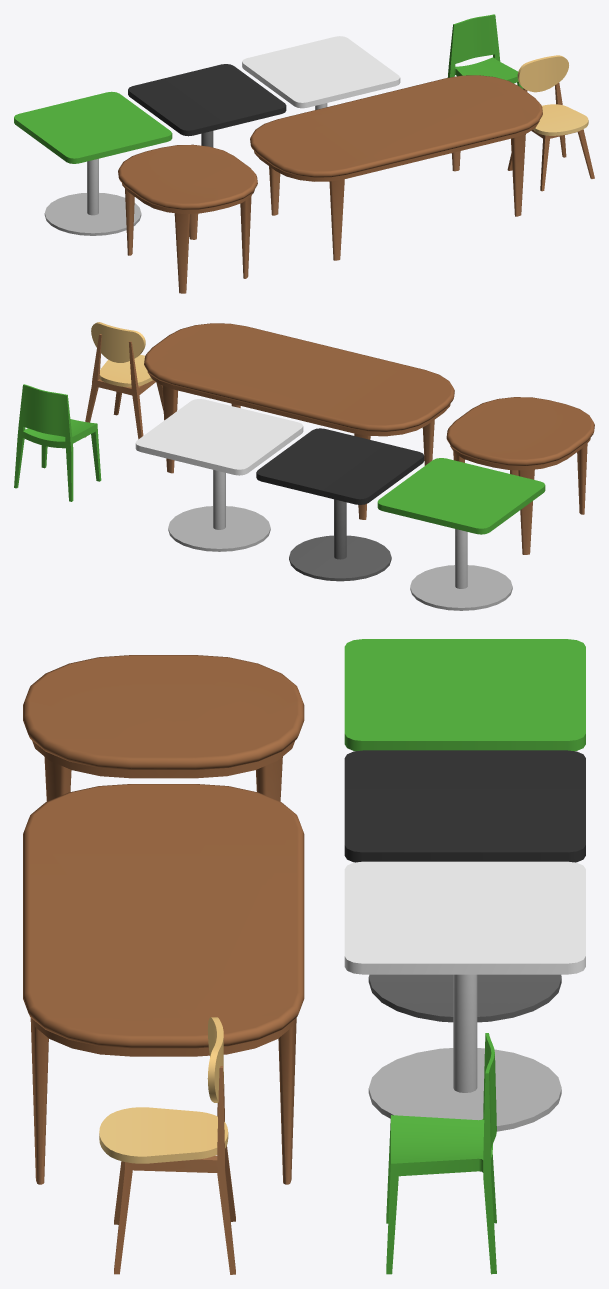
The model's file is table.fbx.
3 views of the same model, one above another, from view 1: azimuth 30°, elevation 25°; view 2: azimuth 150°, elevation 25°; view 3: azimuth 270°, elevation 25° (orthographic). The views are drawn at different scales.
Parts seen in each view (by area): view 1: table_1_Long, table_2_Variant, table_1_Small, table_2_Black, table_2_White, chair_1, chair_2; view 2: table_1_Long, table_2_Variant, table_2_White, table_2_Black, table_1_Small, chair_2, chair_1; view 3: table_1_Long, table_2_White, table_2_Black, table_1_Small, table_2_Variant, chair_1, chair_2.
Boxes of the visible parts, x1=… form: table_1_Long: x1=250, y1=75, x2=542, y2=260; table_2_Variant: x1=14, y1=91, x2=172, y2=235; table_1_Small: x1=118, y1=144, x2=257, y2=293; table_2_Black: x1=128, y1=64, x2=286, y2=193; table_2_White: x1=242, y1=36, x2=400, y2=109; chair_1: x1=507, y1=55, x2=594, y2=191; chair_2: x1=447, y1=14, x2=523, y2=88; table_1_Long: x1=144, y1=323, x2=454, y2=519; table_2_Variant: x1=377, y1=458, x2=545, y2=610; table_2_White: x1=135, y1=399, x2=303, y2=551; table_2_Black: x1=256, y1=428, x2=424, y2=581; table_1_Small: x1=446, y1=397, x2=594, y2=554; chair_2: x1=14, y1=384, x2=101, y2=501; chair_1: x1=85, y1=322, x2=163, y2=439; table_1_Long: x1=23, y1=784, x2=304, y2=1184; table_2_White: x1=344, y1=861, x2=585, y2=1131; table_2_Black: x1=344, y1=750, x2=585, y2=1022; table_1_Small: x1=23, y1=655, x2=304, y2=801; table_2_Variant: x1=344, y1=639, x2=585, y2=751; chair_1: x1=99, y1=1017, x2=235, y2=1274; chair_2: x1=386, y1=1033, x2=496, y2=1274.
Bounding box in the file's own units: 17.87 × 9.33 × 3.92.
